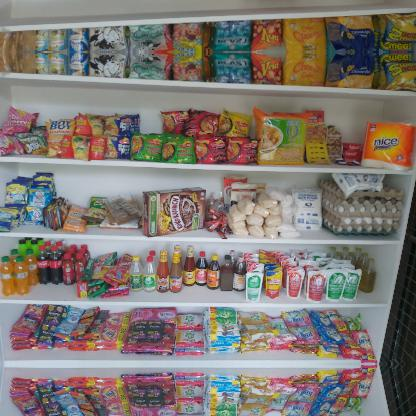Koko-Krunch: (140, 184, 206, 238)
